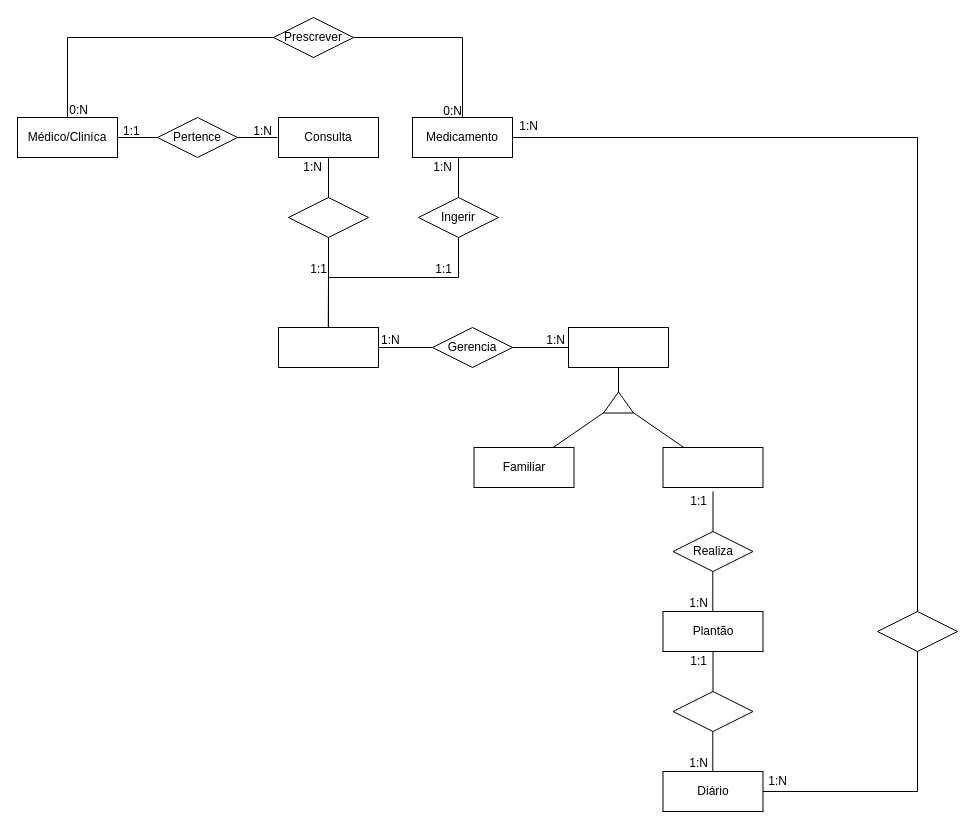
Image size: 975x829. Some labels were removed from this diagram. Each missing label, with the centre of its shape:
"Cuidador" goes at [712,467].
"Marcar" goes at [328,217].
"Paciente" goes at [328,347].
"Possui" goes at [712,711].
"Registra" goes at [917,631].
"User" goes at [618,347].
